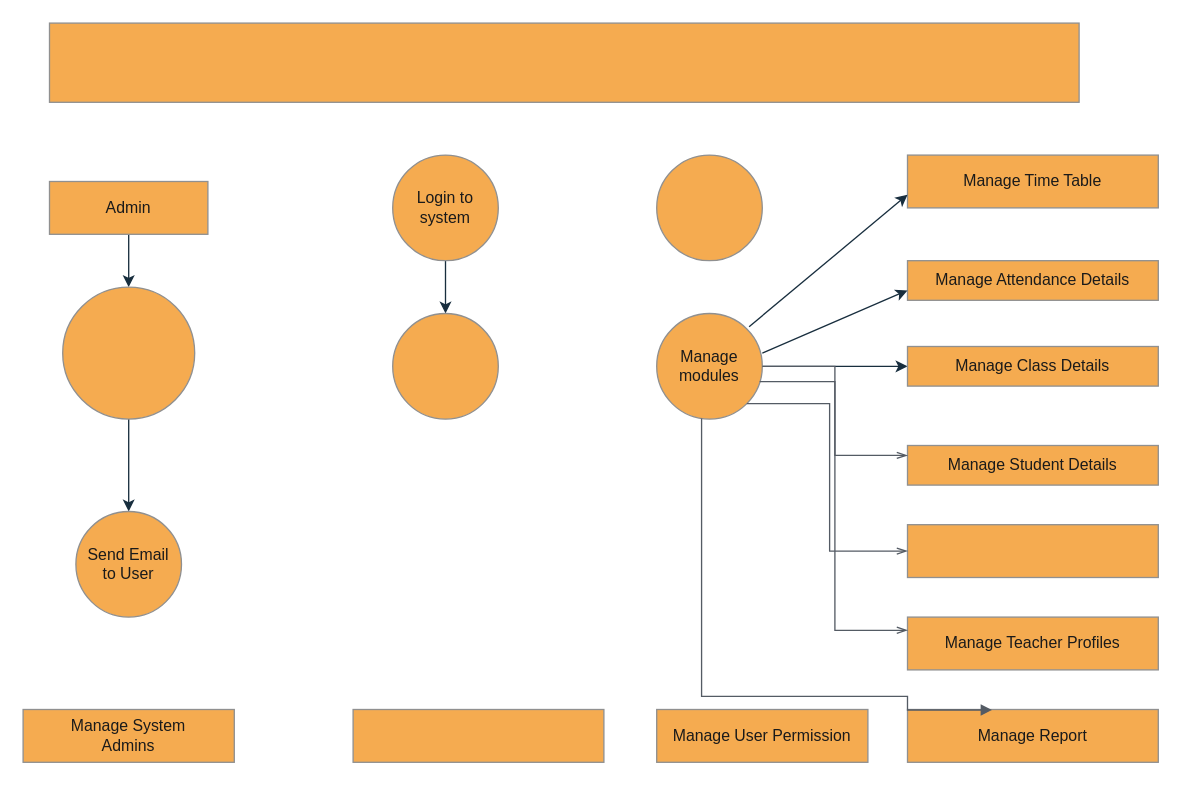
The diagram is 1181 pixels wide and 785 high, and some of its shapes have lost their labels. Here are the shapes that lost their labels. From the top down, the centre of each, then its label:
At pixel 563 62: "Student Information System".
At pixel 708 207: "Check Roles of Access".
At pixel 128 352: "Forgot Password".
At pixel 444 365: "Check Credientials".
At pixel 1032 550: "Manage Fees Details".
At pixel 478 735: "Manage Roles of User".
